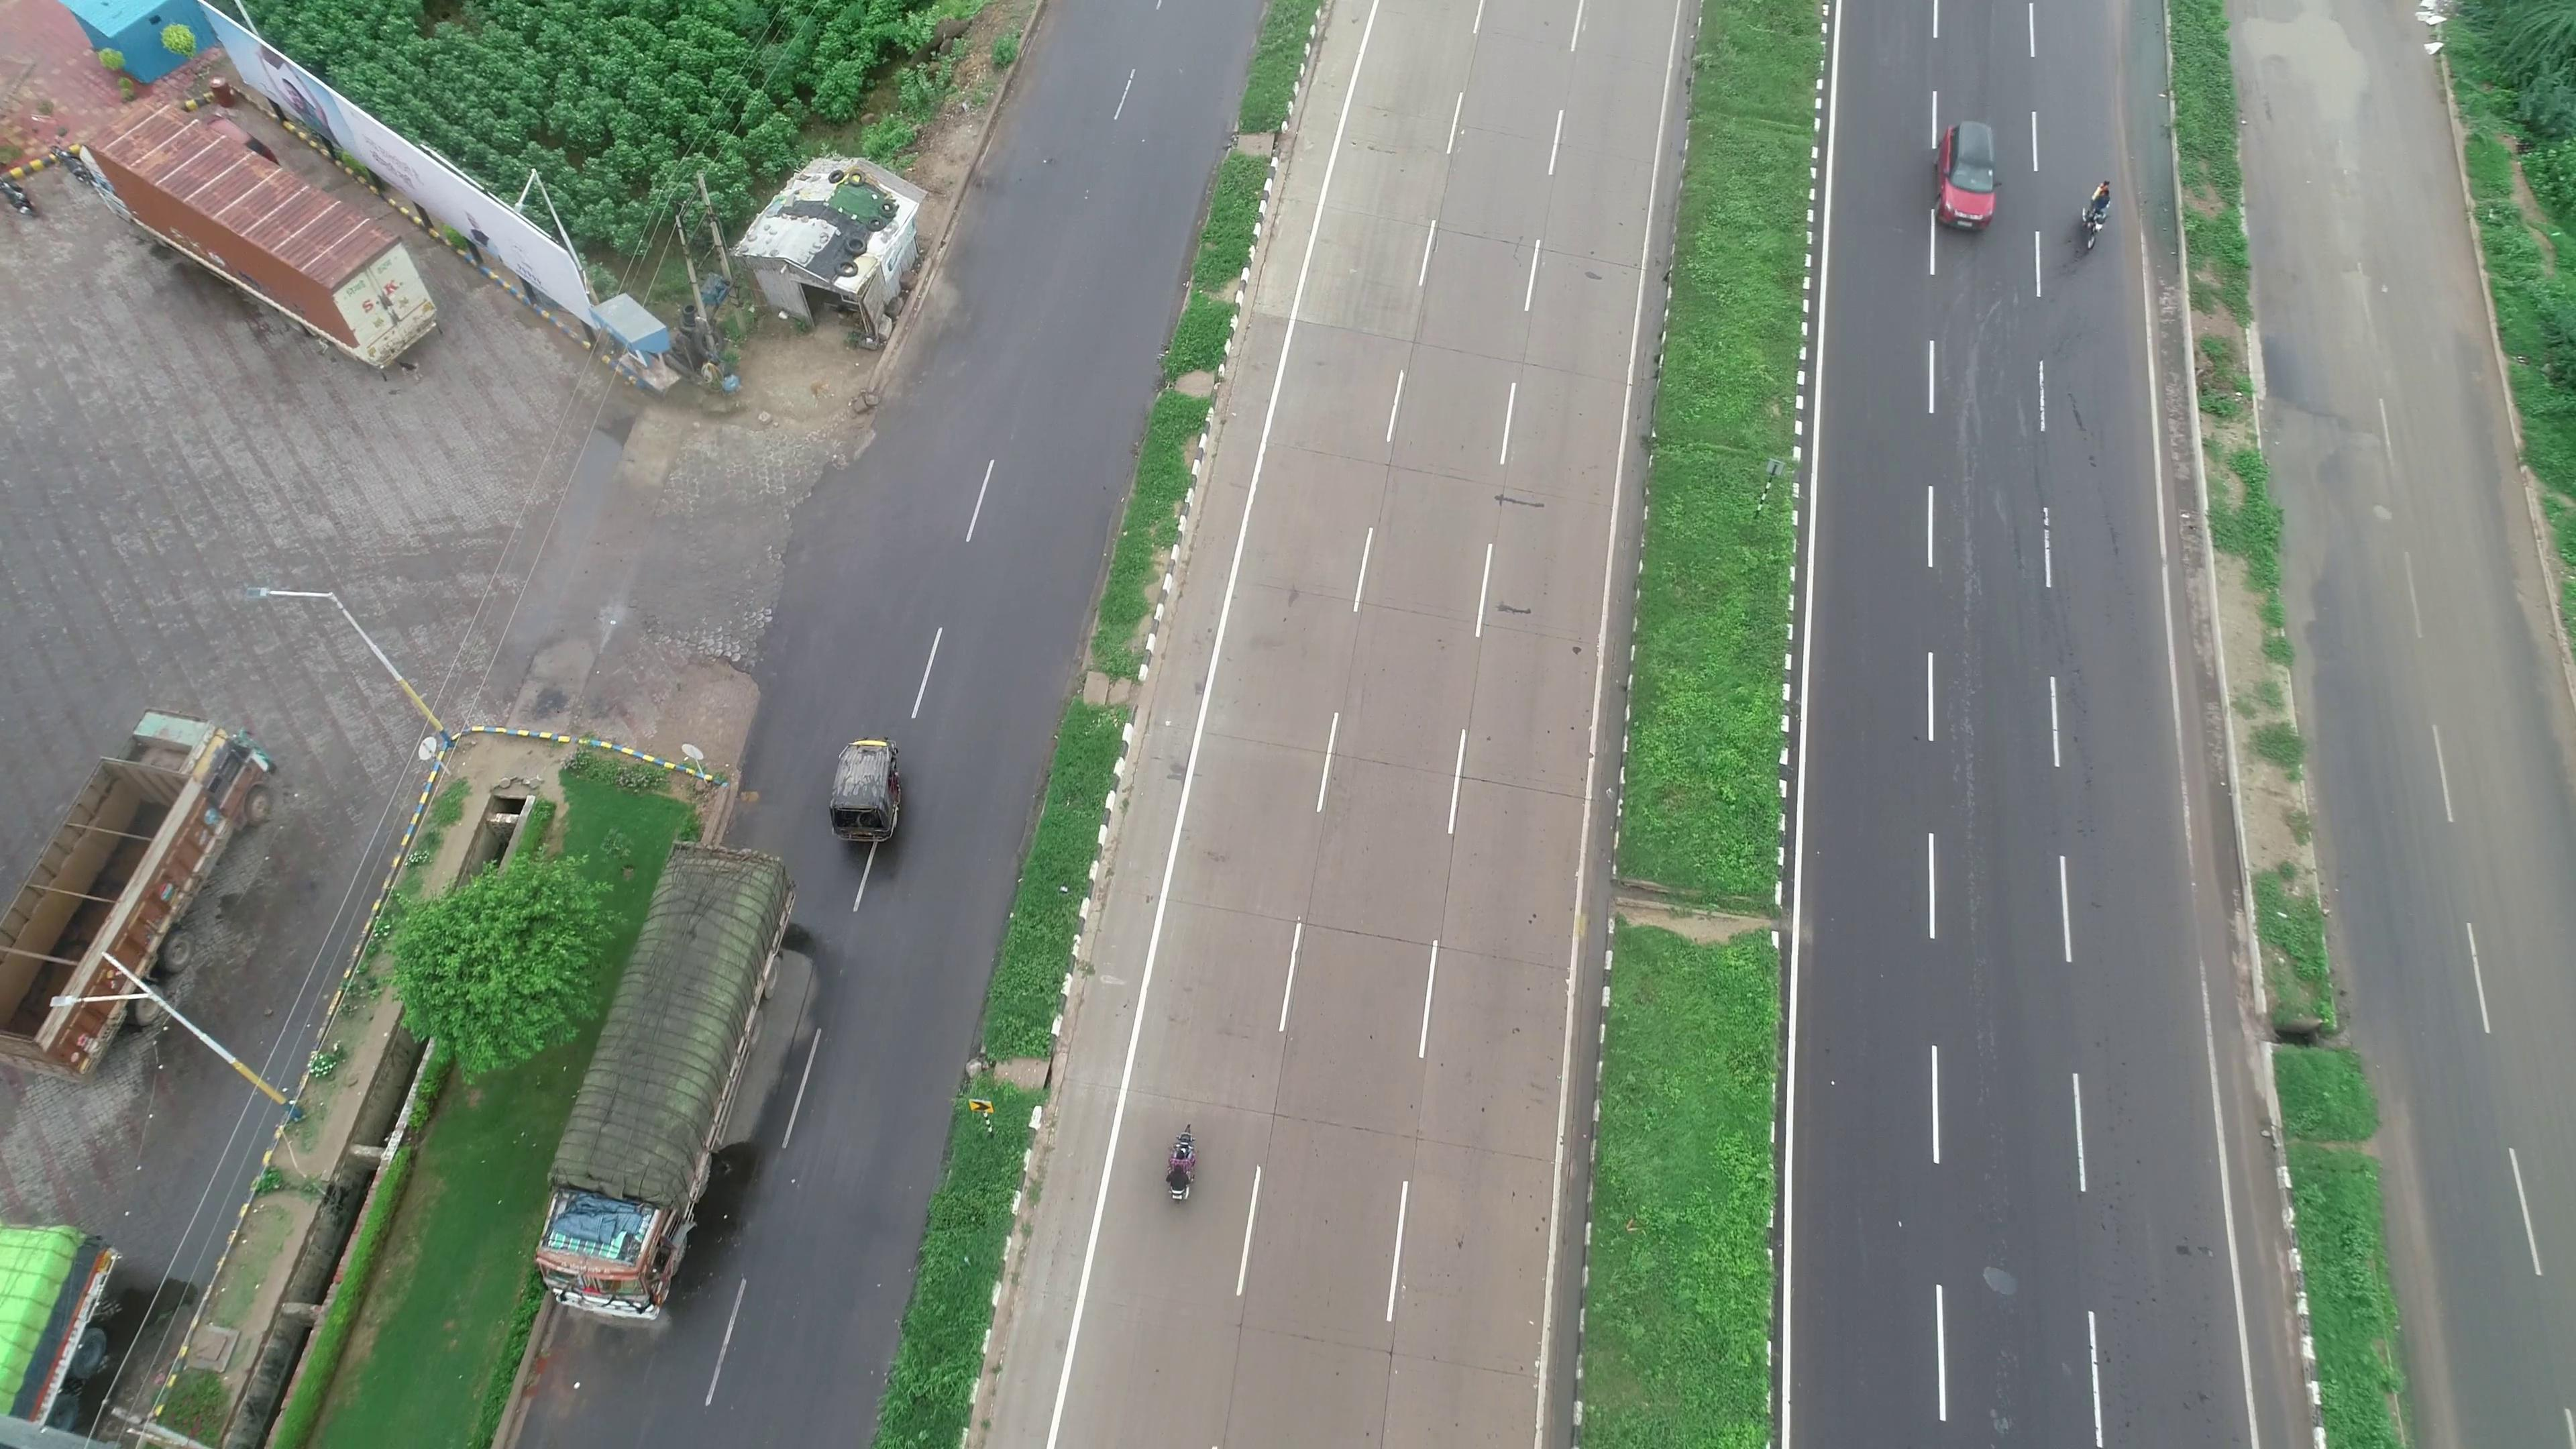Ravelling: (1944, 602, 1996, 955), (1948, 303, 2006, 579)
